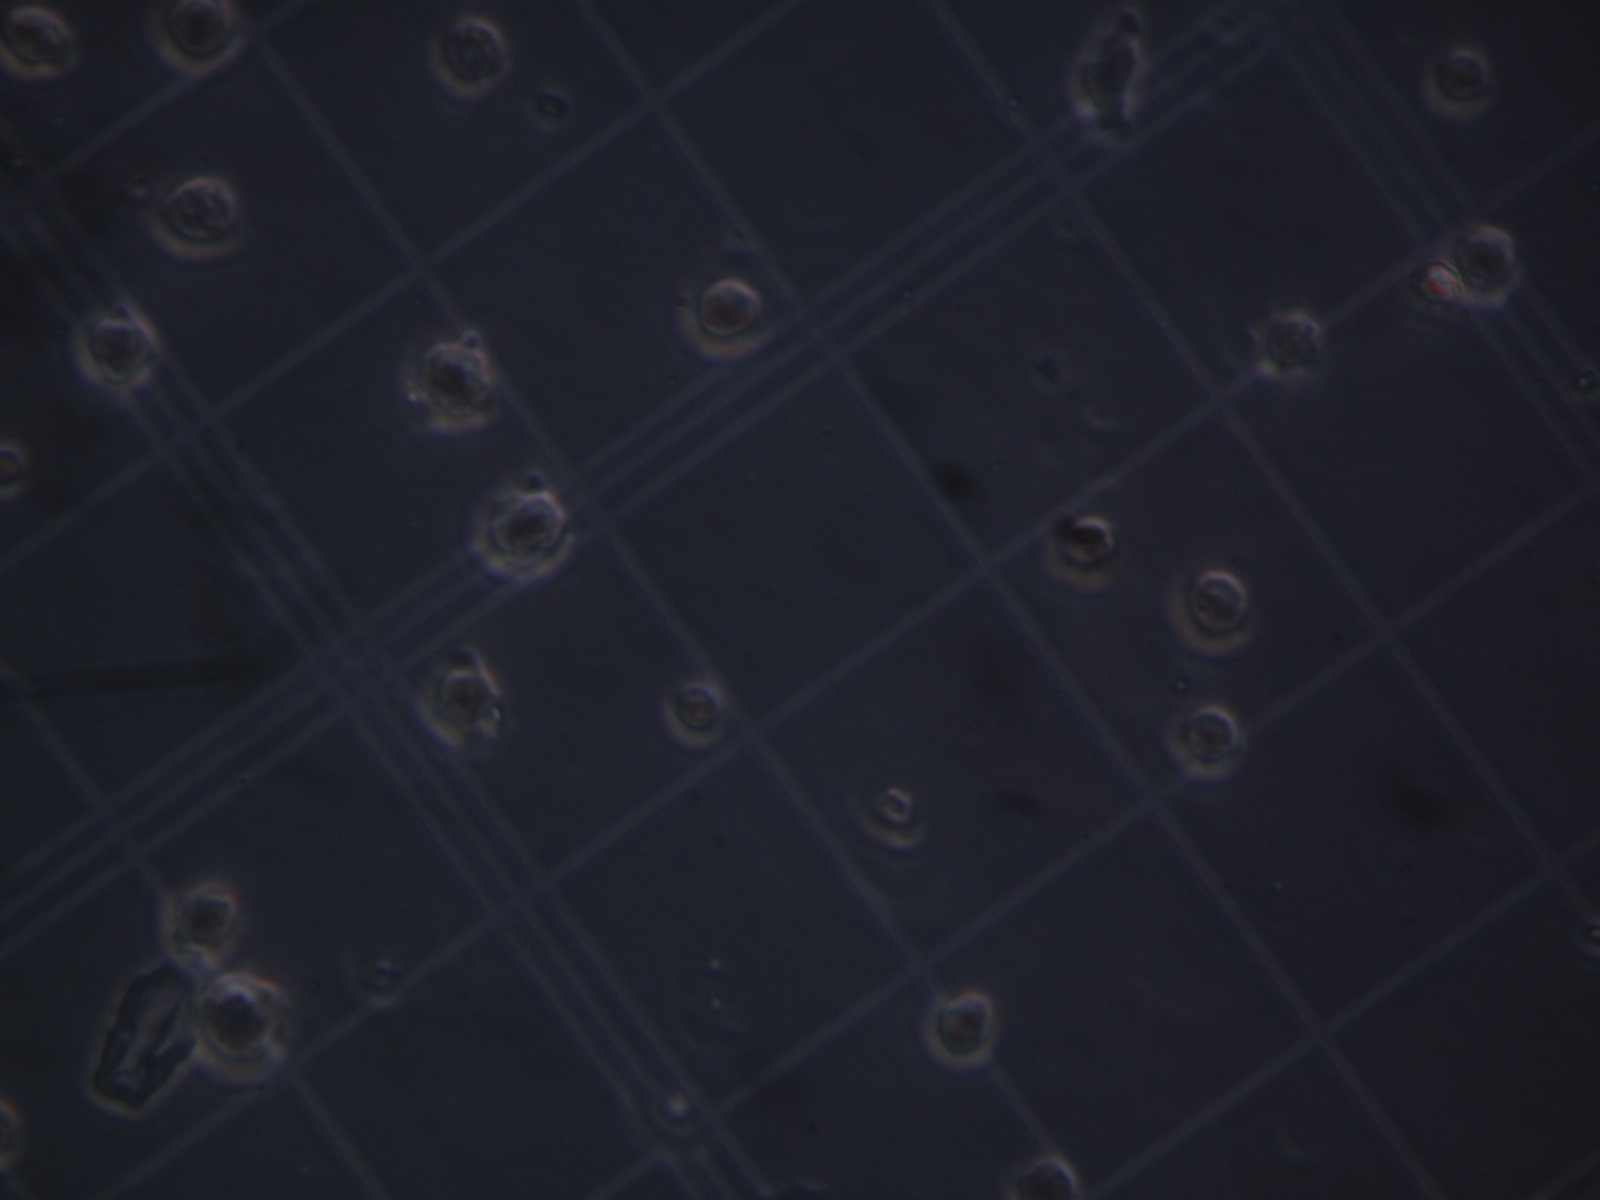hemo: (194, 977, 286, 1084), (472, 489, 574, 582), (1164, 558, 1255, 652), (71, 304, 163, 395), (150, 179, 248, 260), (671, 274, 763, 359), (1441, 217, 1524, 310), (163, 884, 249, 971), (409, 342, 493, 430), (414, 661, 500, 745), (1060, 29, 1141, 113), (147, 1, 243, 73), (428, 19, 514, 98), (849, 770, 932, 848), (1043, 511, 1117, 595), (1168, 705, 1247, 783), (1250, 306, 1327, 386), (925, 991, 999, 1066), (1, 8, 78, 79), (1426, 43, 1490, 118), (660, 678, 727, 747), (1007, 1156, 1081, 1200)
